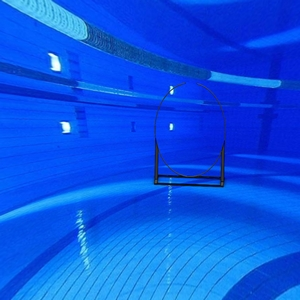circle: (152, 79, 228, 190)
